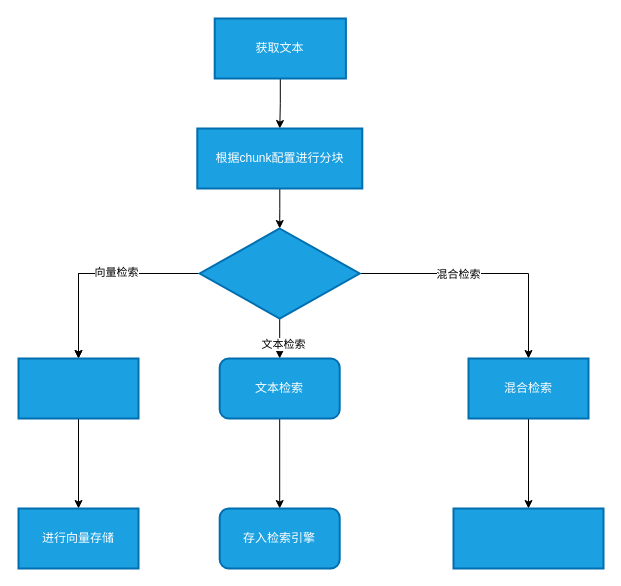
Some shapes in this 621 by 586 pixel diagram are drawn without their labels. Here are the shapes that lost their labels. From the top down, the box of each, then its label:
(198, 227, 360, 319): 根据检索设置来进行索引
(17, 357, 139, 419): 文本向量化
(452, 507, 604, 569): 文本向量化 + 文本检索
